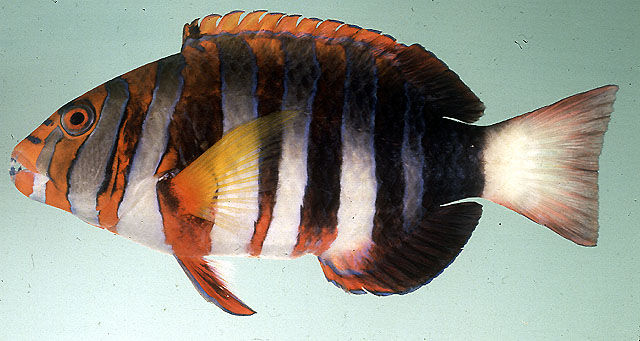fish: (10, 9, 619, 318)
